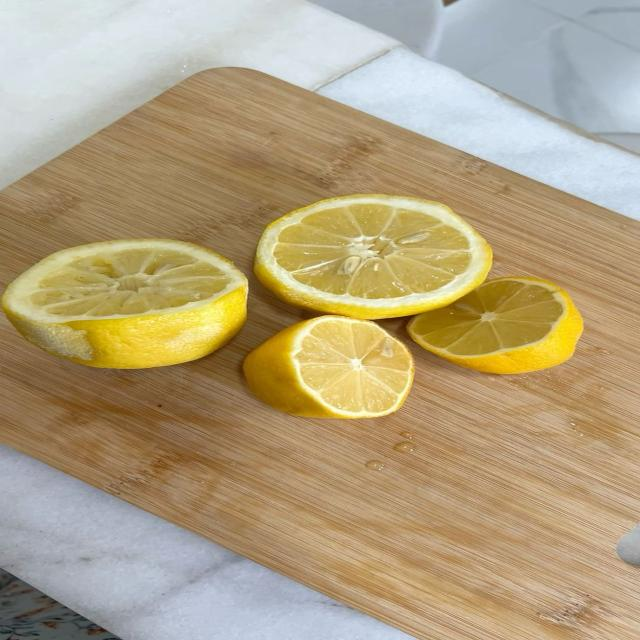lemon: (3, 240, 246, 368), (255, 195, 491, 319), (244, 316, 413, 417), (408, 277, 582, 373)
